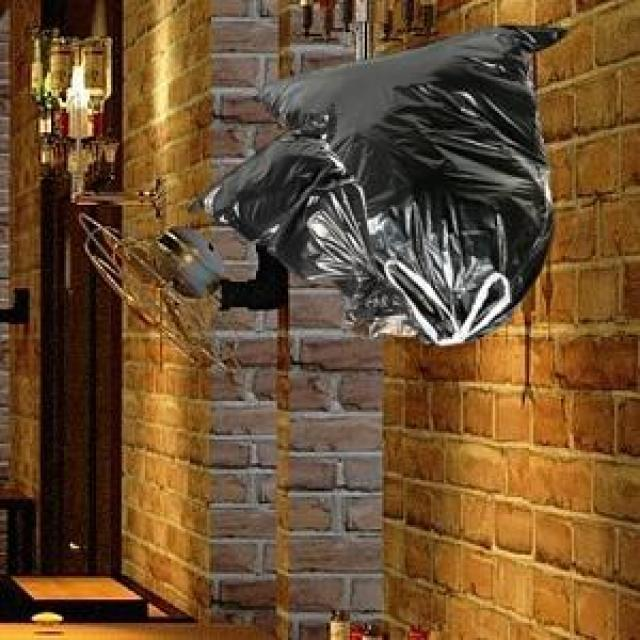miscellaneous trash: (248, 21, 564, 344), (184, 105, 414, 335)
